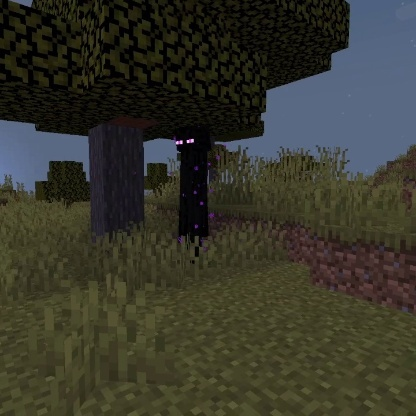enderman: (173, 123, 213, 266)
